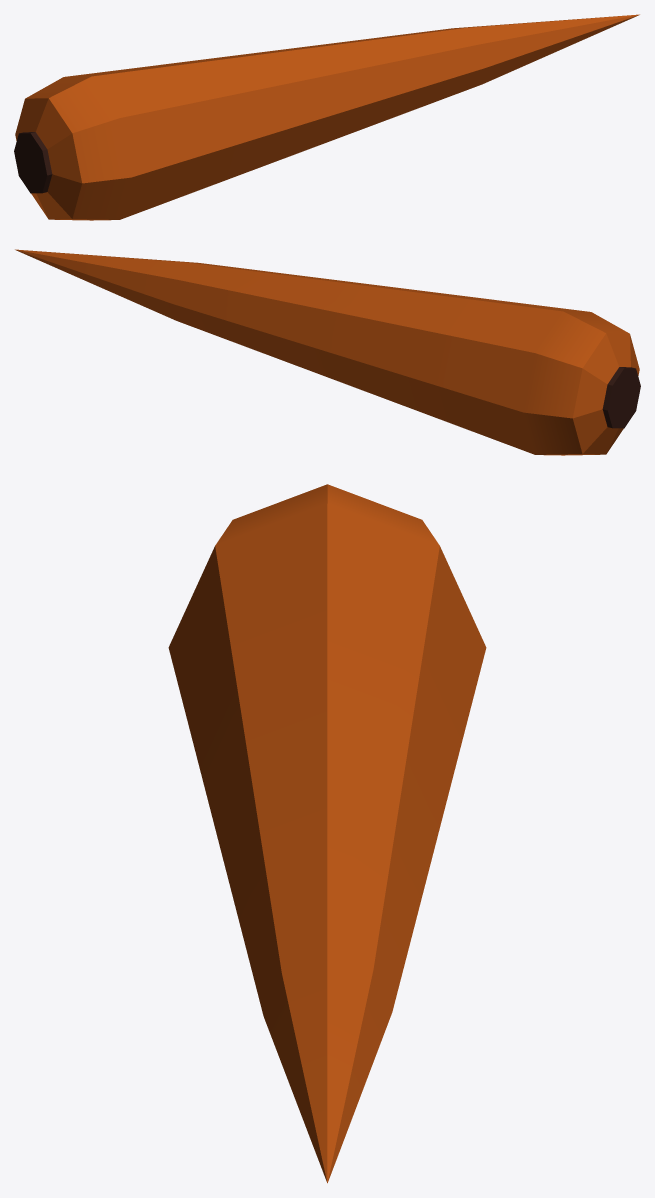
Rendered from carrot.obj.
The picture shows the model from 3 angles, top to bottom: view 1: azimuth 30°, elevation 25°; view 2: azimuth 150°, elevation 25°; view 3: azimuth 270°, elevation 25°; orthographic projection. The views are drawn at different scales.
Visible parts, largest first — view 1: Google:pCylinder1; view 2: Google:pCylinder1; view 3: Google:pCylinder1.
Boxes of the visible parts, left/top/right/bottom form: Google:pCylinder1: left=14, top=14, right=639, bottom=220; Google:pCylinder1: left=15, top=249, right=640, bottom=455; Google:pCylinder1: left=168, top=484, right=486, bottom=1183.
Bounding box in the file's own units: 106 × 23.85 × 23.85.
